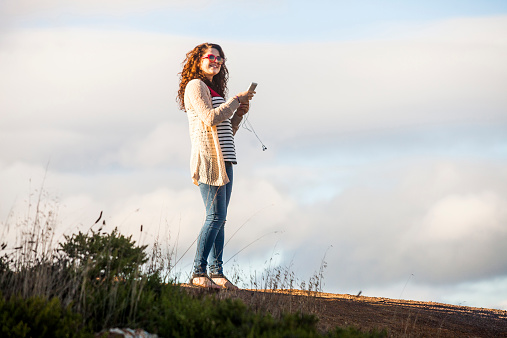em pe: (174, 35, 249, 283)
